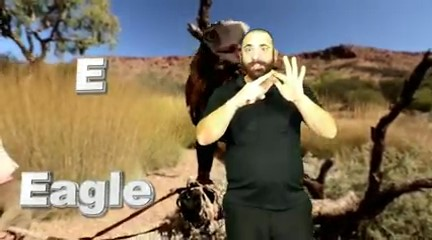E: (229, 50, 319, 112)
